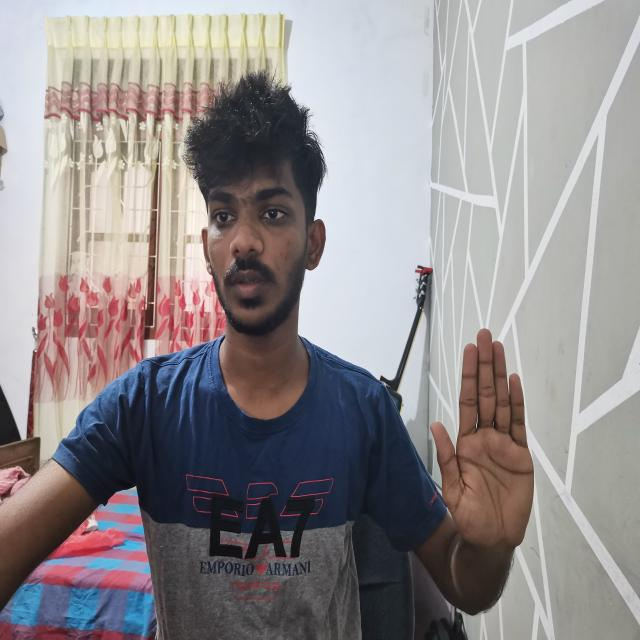Hello: (416, 323, 547, 564)
